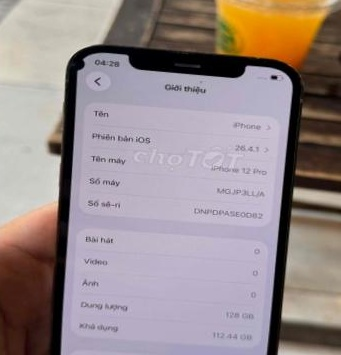screen_defect: (62, 43, 116, 94)
